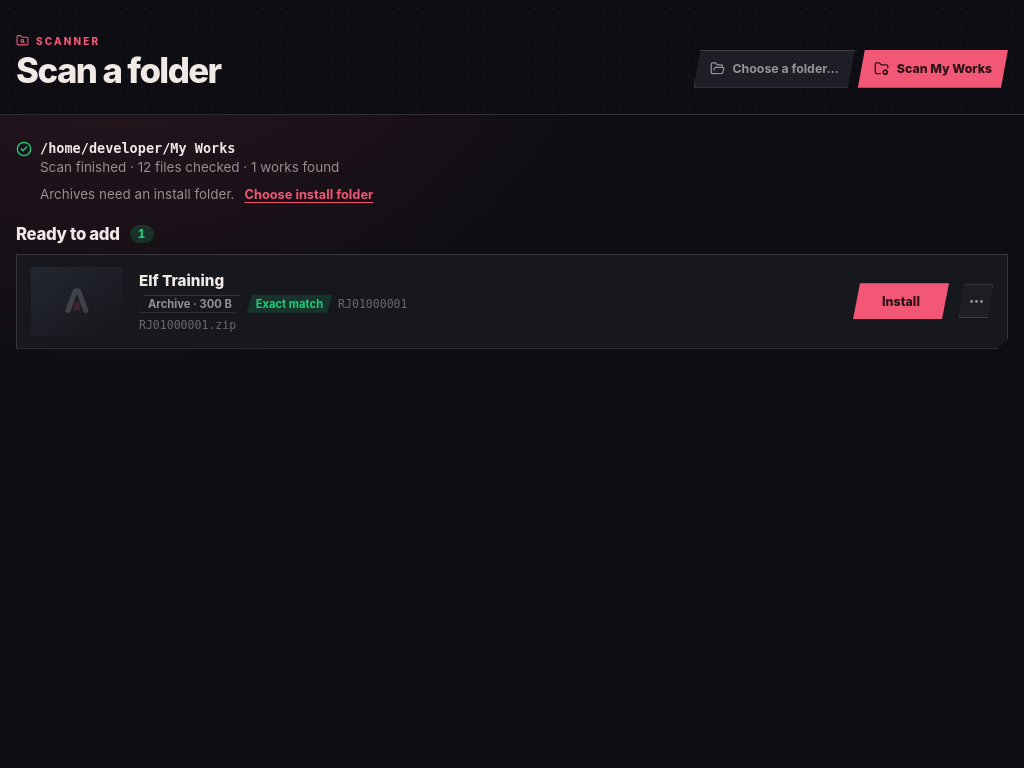
Test: ScannerPage › asks for an install folder once before installing an archive
Expected: the text "Archives need an install folder." is shown, [40,186,234,202]
Expected: the text "Elf Training" is shown, [139,271,224,290]
Click the button "Install".
click(901, 301)  # box [853,283,949,319]
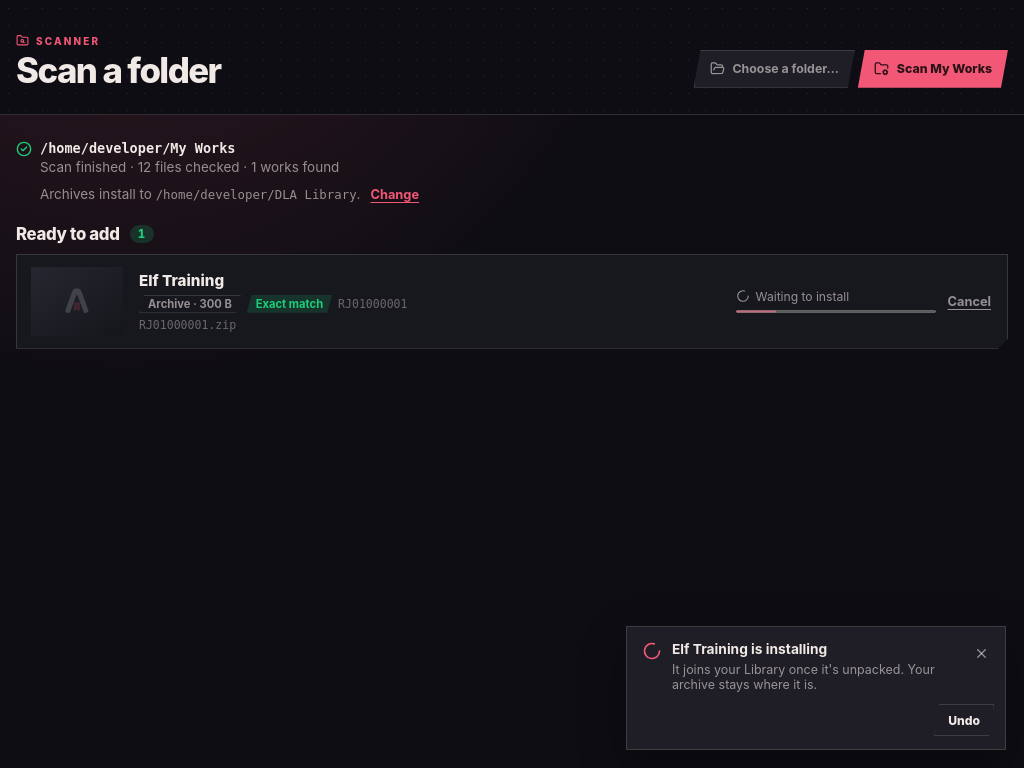
Now the text "Waiting to install" is shown, box [736,289,849,304]
Now the text "Elf Training is installing" is shown, box [672,641,827,657]
